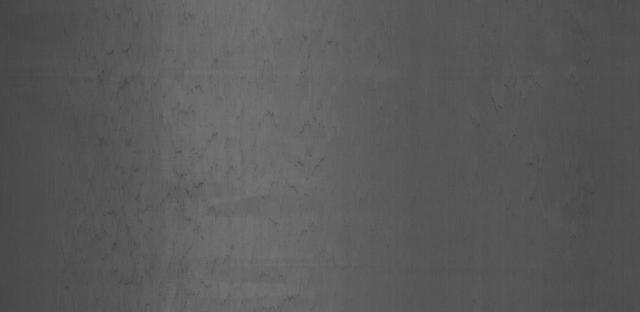silk_spot: (79, 42, 333, 230), (90, 232, 244, 292)
